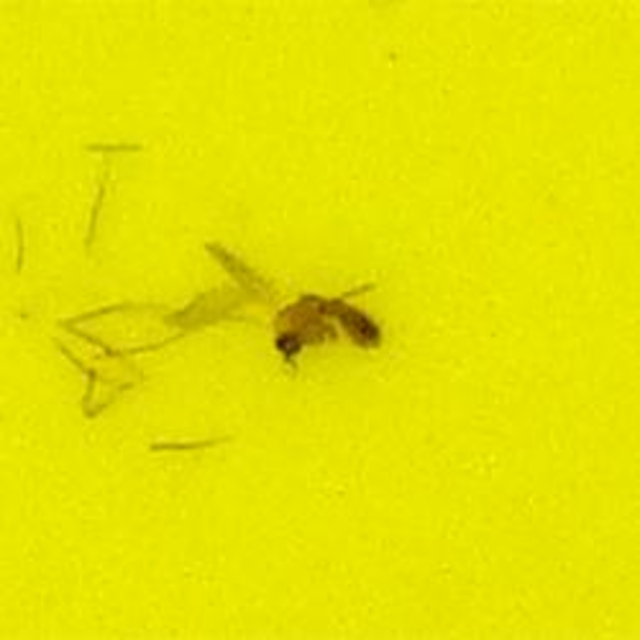Nematocera: (256, 281, 384, 359)
